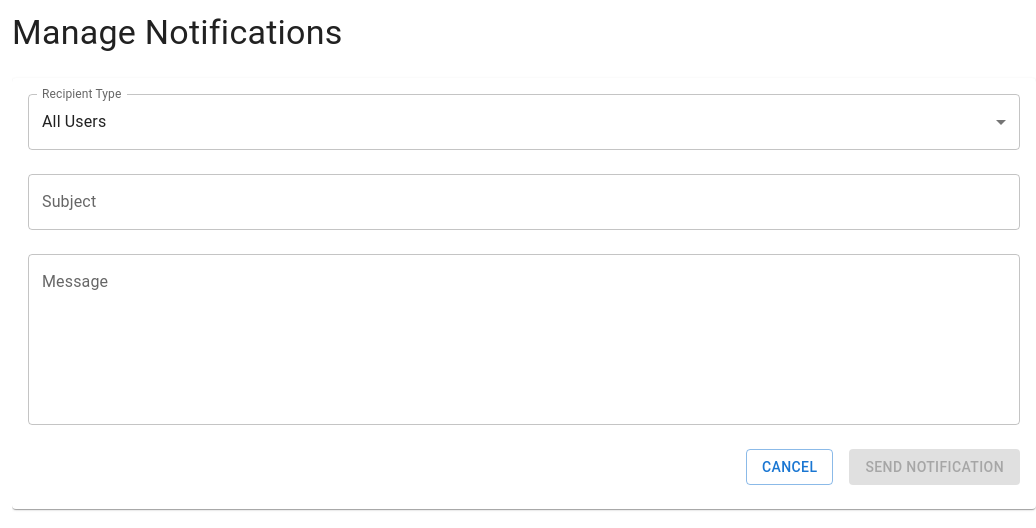
ManageNotifications › resets form on cancel
Type "Test" into the field labelled "Subject" at (524, 202), box [28, 174, 1020, 230]
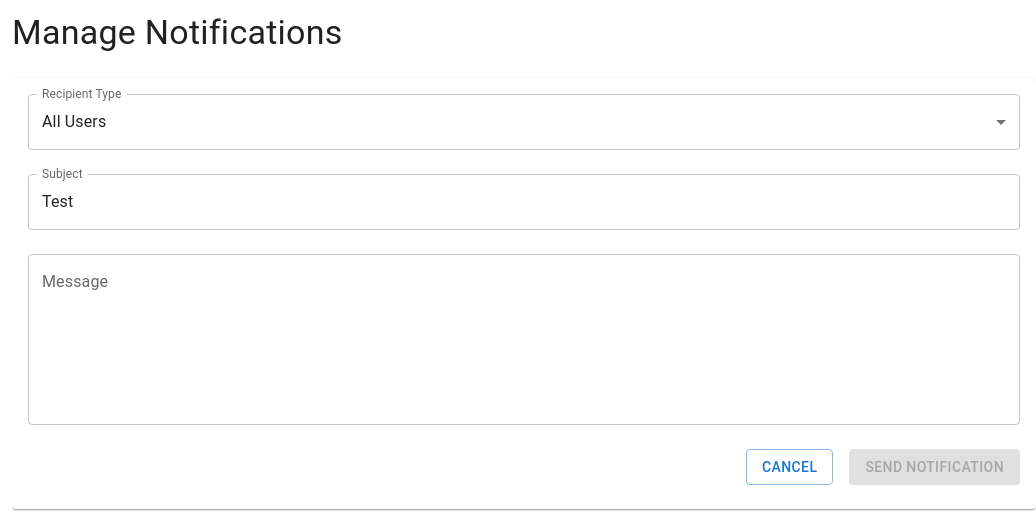
Type "Test" into the text box labelled "Message" at (524, 340), box [42, 270, 1006, 408]
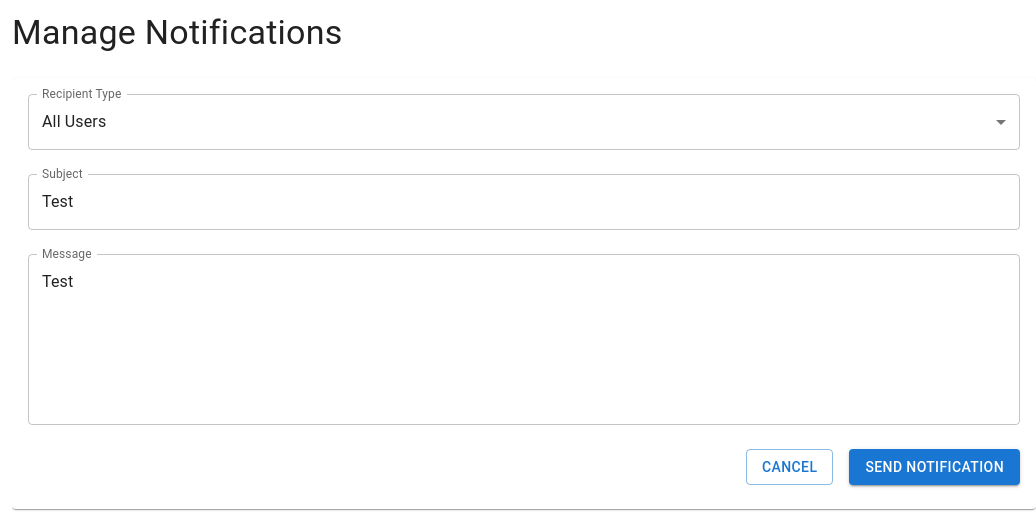
Click the button "Cancel" at (790, 467), box [746, 449, 834, 486]
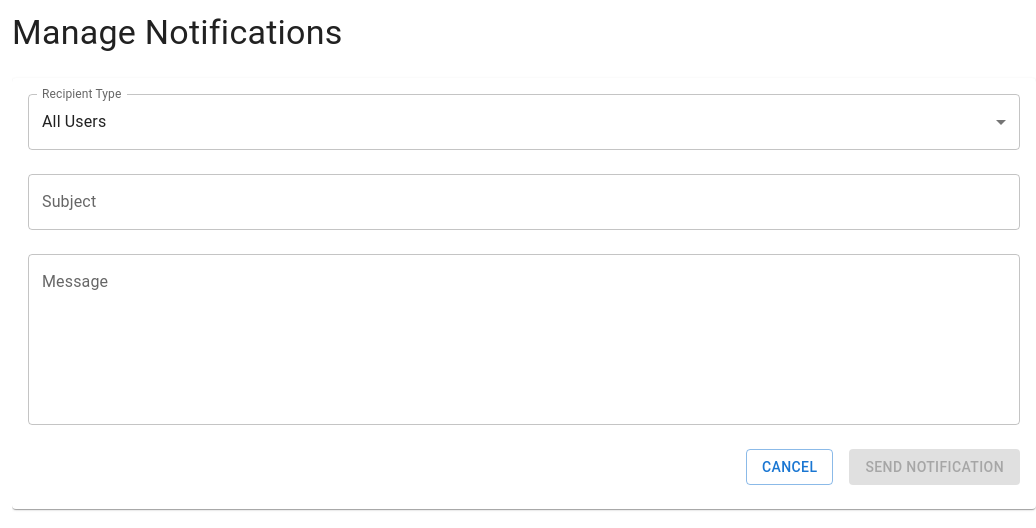
Check: the field labelled "Subject" is empty, box [28, 174, 1020, 230]
Check: the text box labelled "Message" is empty, box [42, 270, 1006, 408]
